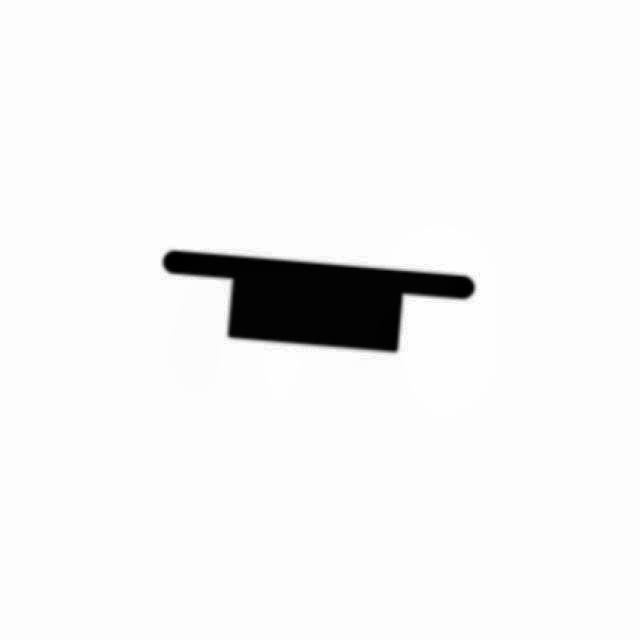Full-rest: (142, 242, 494, 364)
